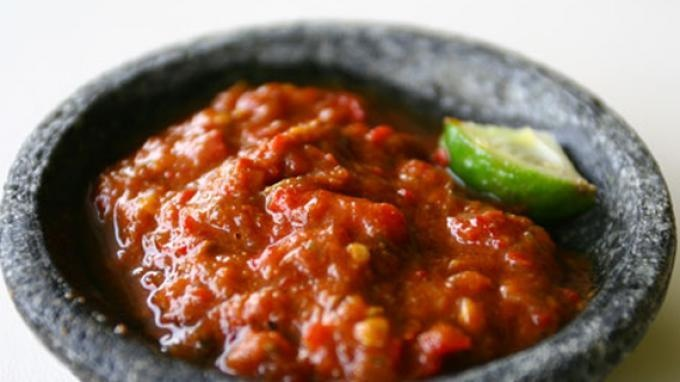sambal: (88, 80, 578, 380)
